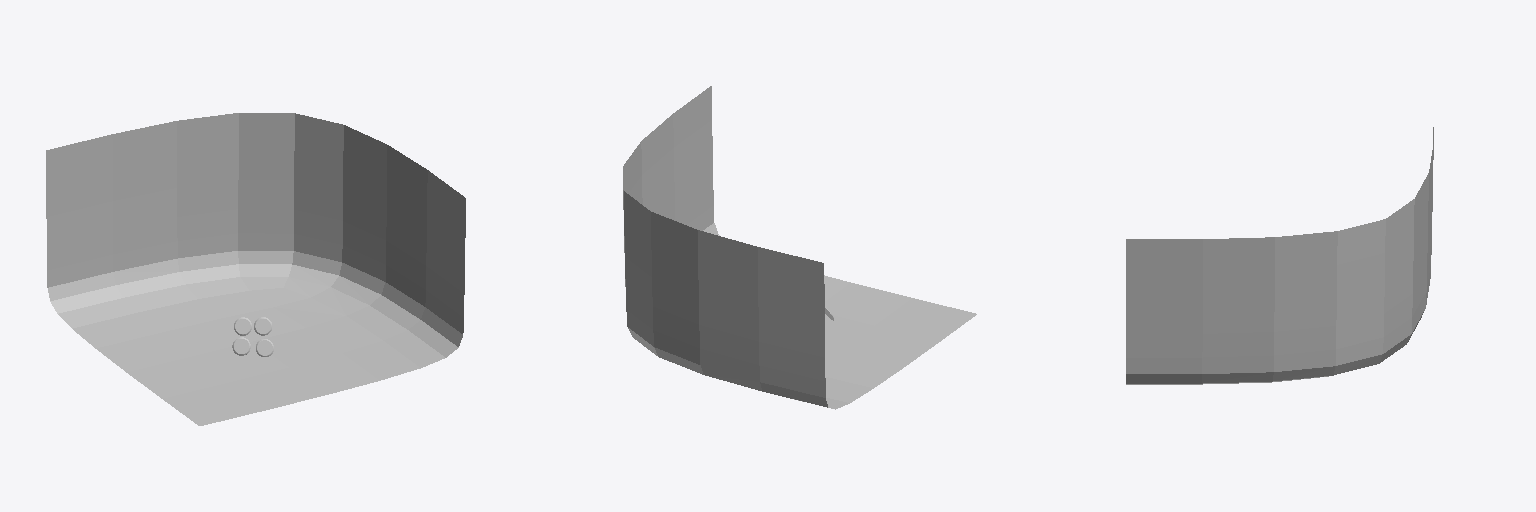
Rendered from Traditional Wall Clock.obj.
The picture shows the model from 3 angles: view 1: azimuth 30°, elevation 25°; view 2: azimuth 150°, elevation 25°; view 3: azimuth 270°, elevation 25°; orthographic projection.
Parts seen in each view (by area): view 1: Plane001, Traditional_Wall_Clock_relish3d; view 2: Plane001; view 3: Plane001.
Part boxes in pixels (bbox=[...]): Plane001: bbox=[46, 113, 465, 425]; Traditional_Wall_Clock_relish3d: bbox=[232, 317, 273, 356]; Plane001: bbox=[623, 86, 976, 409]; Plane001: bbox=[1126, 127, 1433, 384].
Size of the model in its own units: 186 by 109 by 186.